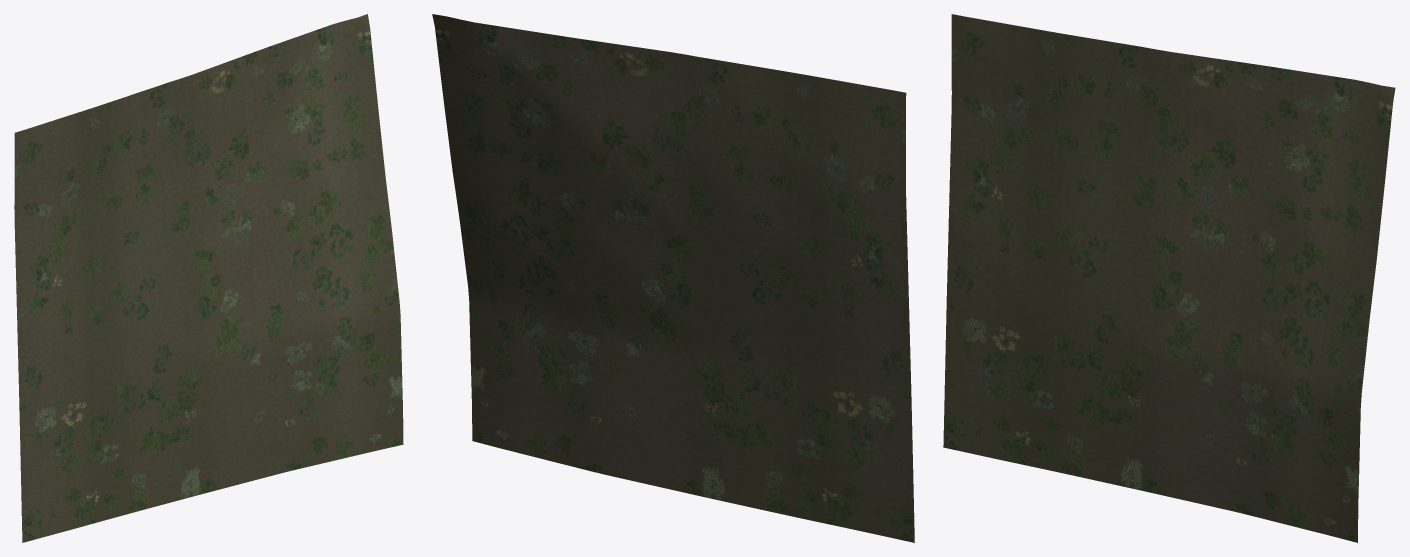
File: terrain_near_05_01.obj
3 renders of one model, left to right at view 1: azimuth 30°, elevation 25°; view 2: azimuth 150°, elevation 25°; view 3: azimuth 330°, elevation 25°, orthographic. The views are drawn at different scales.
Parts seen in each view (by area): view 1: terrain_near_05_01; view 2: terrain_near_05_01; view 3: terrain_near_05_01.
Part boxes in pixels (<box>): terrain_near_05_01: <box>14,14,403,542</box>; terrain_near_05_01: <box>432,14,914,542</box>; terrain_near_05_01: <box>943,14,1395,542</box>.
Bounding box in the file's own units: 64 × 64 × 11.8.
1 material, 1 textured.
